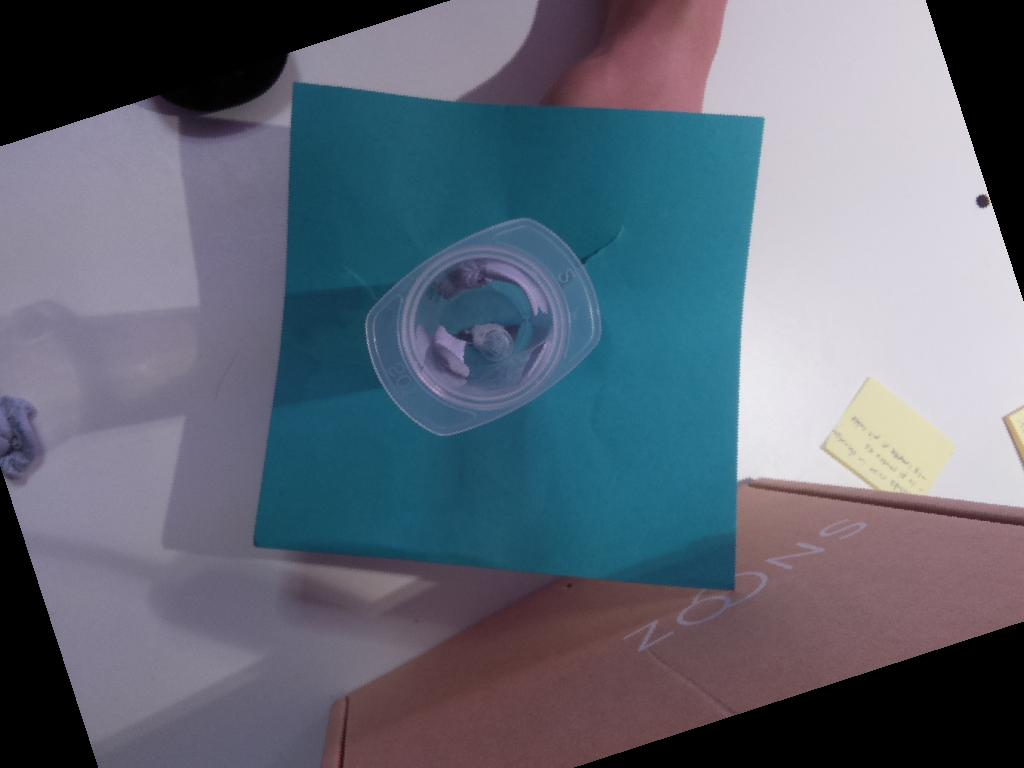dirty: (365, 216, 602, 435)
